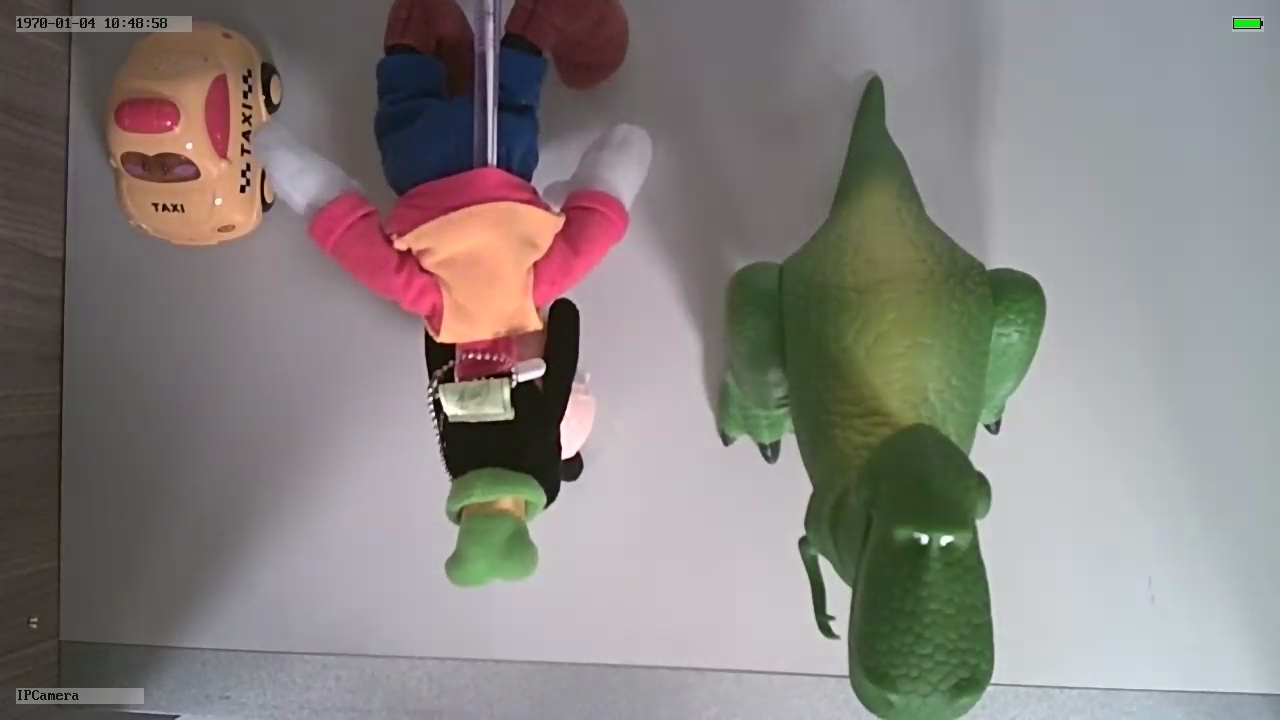car: (99, 20, 284, 251)
rex: (717, 171, 1051, 720)
